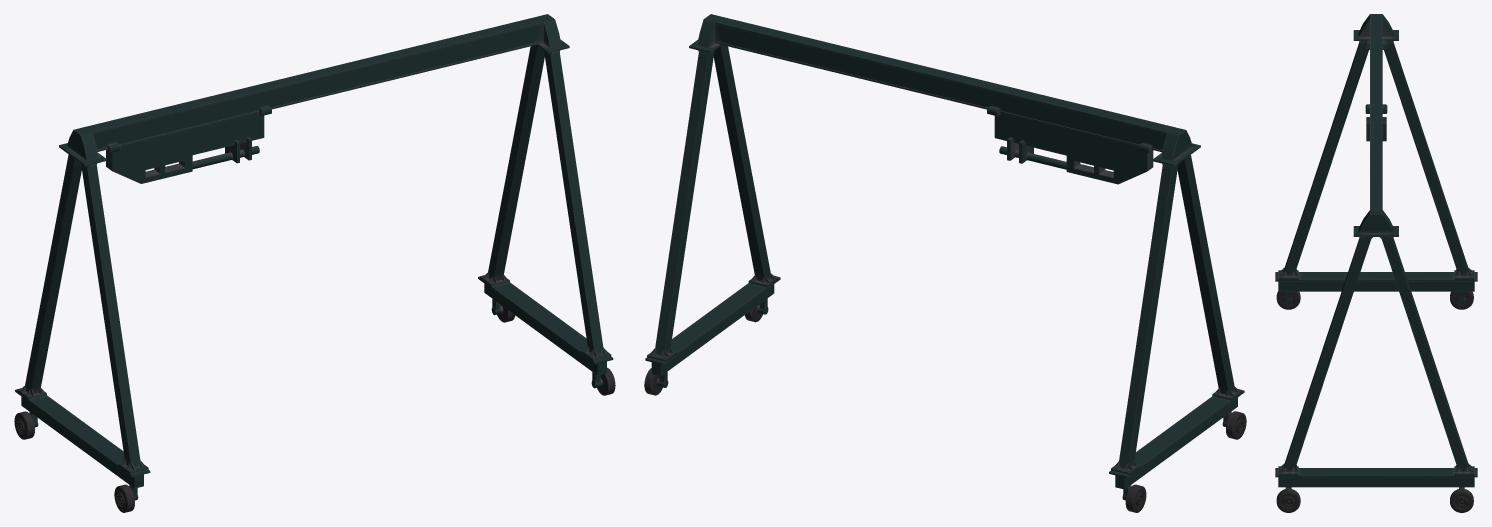
Rendered from LWZHGK_LunTaiDiao_01.FBX.
The picture shows the model from 3 angles, left to right: view 1: azimuth 30°, elevation 25°; view 2: azimuth 150°, elevation 25°; view 3: azimuth 270°, elevation 25°; orthographic projection. The views are drawn at different scales.
Parts seen in each view (by area): view 1: LWZHGK_LunTaiDiao_05, LWZHGK_LunTaiDiao_08, LWZHGK_LunTaiDiao_13, LWZHGK_LunTaiDiao_11, LWZHGK_LunTaiDiao_09, LWZHGK_LunTaiDiao_12, LWZHGK_LunTaiDiao_03, LWZHGK_LunTaiDiao_06, LWZHGK_LunTaiDiao_02, LWZHGK_LunTaiDiao_04, LWZHGK_LunTaiDiao_07; view 2: LWZHGK_LunTaiDiao_05, LWZHGK_LunTaiDiao_08, LWZHGK_LunTaiDiao_12, LWZHGK_LunTaiDiao_09, LWZHGK_LunTaiDiao_11, LWZHGK_LunTaiDiao_13, LWZHGK_LunTaiDiao_06, LWZHGK_LunTaiDiao_03, LWZHGK_LunTaiDiao_02, LWZHGK_LunTaiDiao_04, LWZHGK_LunTaiDiao_07; view 3: LWZHGK_LunTaiDiao_06, LWZHGK_LunTaiDiao_03, LWZHGK_LunTaiDiao_12, LWZHGK_LunTaiDiao_13, LWZHGK_LunTaiDiao_09, LWZHGK_LunTaiDiao_11, LWZHGK_LunTaiDiao_05, LWZHGK_LunTaiDiao_02, LWZHGK_LunTaiDiao_07, LWZHGK_LunTaiDiao_04, LWZHGK_LunTaiDiao_08.
Part boxes in pixels (box(x1,y1,x2,y2)): LWZHGK_LunTaiDiao_05: box(85, 17, 543, 151); LWZHGK_LunTaiDiao_08: box(106, 105, 271, 183); LWZHGK_LunTaiDiao_13: box(544, 50, 611, 360); LWZHGK_LunTaiDiao_11: box(81, 163, 148, 473); LWZHGK_LunTaiDiao_09: box(17, 154, 81, 399); LWZHGK_LunTaiDiao_12: box(480, 45, 544, 286); LWZHGK_LunTaiDiao_03: box(15, 389, 150, 488); LWZHGK_LunTaiDiao_06: box(478, 276, 613, 375); LWZHGK_LunTaiDiao_02: box(14, 305, 615, 512); LWZHGK_LunTaiDiao_04: box(59, 127, 106, 166); LWZHGK_LunTaiDiao_07: box(536, 14, 569, 53); LWZHGK_LunTaiDiao_05: box(715, 17, 1174, 152); LWZHGK_LunTaiDiao_08: box(987, 106, 1153, 184); LWZHGK_LunTaiDiao_12: box(647, 50, 714, 361); LWZHGK_LunTaiDiao_09: box(1111, 163, 1178, 474); LWZHGK_LunTaiDiao_11: box(1177, 155, 1242, 400); LWZHGK_LunTaiDiao_13: box(713, 45, 778, 287); LWZHGK_LunTaiDiao_06: box(645, 277, 780, 376); LWZHGK_LunTaiDiao_03: box(1109, 390, 1244, 489); LWZHGK_LunTaiDiao_02: box(644, 304, 1246, 512); LWZHGK_LunTaiDiao_04: box(1152, 127, 1200, 166); LWZHGK_LunTaiDiao_07: box(689, 14, 721, 53); LWZHGK_LunTaiDiao_06: box(1275, 468, 1477, 487); LWZHGK_LunTaiDiao_03: box(1275, 272, 1477, 291); LWZHGK_LunTaiDiao_12: box(1380, 237, 1474, 475); LWZHGK_LunTaiDiao_13: box(1278, 237, 1372, 475); LWZHGK_LunTaiDiao_09: box(1384, 41, 1474, 279); LWZHGK_LunTaiDiao_11: box(1278, 41, 1368, 279); LWZHGK_LunTaiDiao_05: box(1370, 19, 1382, 209); LWZHGK_LunTaiDiao_02: box(1276, 291, 1473, 512); LWZHGK_LunTaiDiao_07: box(1353, 210, 1398, 236); LWZHGK_LunTaiDiao_04: box(1353, 14, 1398, 40); LWZHGK_LunTaiDiao_08: box(1365, 40, 1387, 141).
Size of the model in its own units: 1931 by 1278 by 794.
